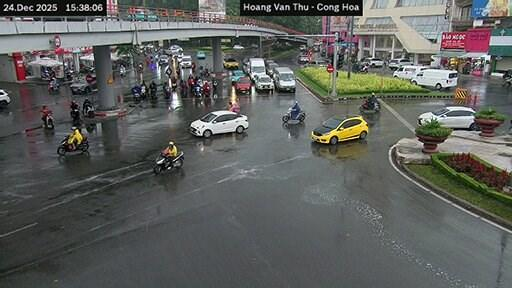motorbike: (153, 151, 182, 174), (57, 135, 88, 154), (281, 108, 303, 121), (358, 99, 380, 111), (71, 108, 79, 125), (44, 112, 53, 127), (83, 104, 92, 117), (131, 91, 140, 102), (163, 84, 170, 98), (48, 81, 57, 91), (211, 80, 217, 94), (194, 85, 201, 97), (140, 85, 146, 99), (502, 76, 511, 85), (201, 85, 209, 95), (181, 81, 186, 95), (150, 88, 156, 99), (170, 81, 176, 90), (118, 67, 124, 76), (137, 63, 143, 71)
